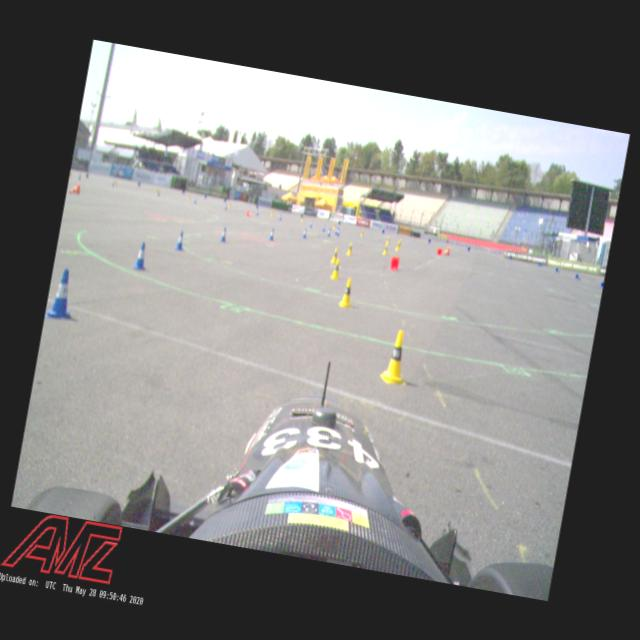blue_cone: (44, 264, 79, 322), (132, 239, 152, 272), (174, 228, 186, 252), (218, 225, 228, 243), (268, 228, 276, 242), (301, 226, 308, 238), (326, 226, 332, 237), (321, 224, 326, 232), (336, 227, 340, 236), (308, 220, 312, 228), (334, 226, 338, 234)
orange_cone: (67, 182, 81, 196), (389, 256, 400, 272), (442, 246, 451, 257), (435, 246, 443, 257), (245, 210, 253, 218)
yellow_cone: (378, 327, 415, 388), (338, 276, 356, 308), (330, 257, 342, 280), (330, 246, 340, 264), (346, 240, 354, 256), (381, 242, 389, 255), (395, 241, 400, 251), (397, 238, 402, 248), (360, 228, 364, 237), (386, 235, 390, 243), (332, 222, 336, 230)
